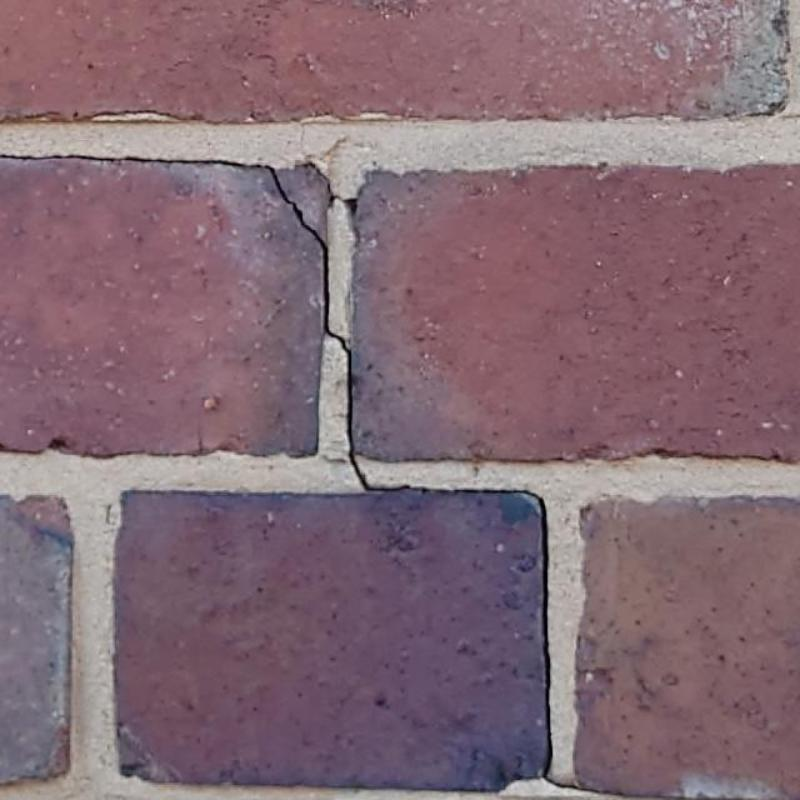pothole: (1, 154, 412, 493), (413, 486, 622, 796), (295, 161, 361, 217)
